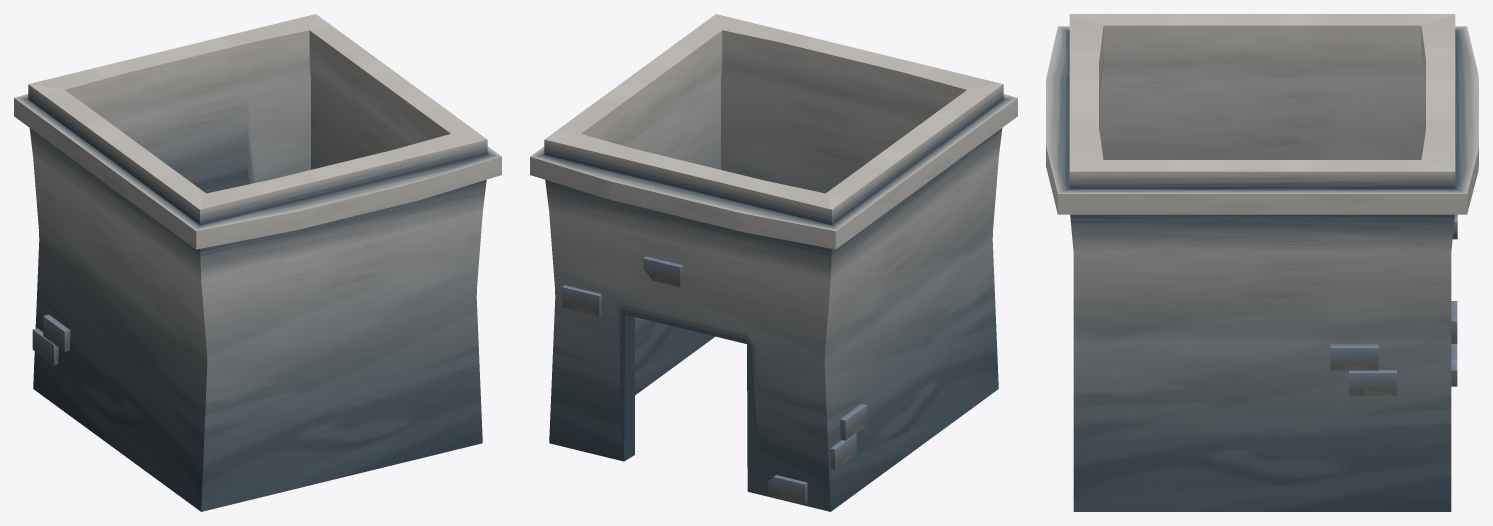
Rendered from Building_Bottom_1.fbx.
3 renders of one model, left to right at view 1: azimuth 30°, elevation 25°; view 2: azimuth 150°, elevation 25°; view 3: azimuth 270°, elevation 25°, orthographic. The views are drawn at different scales.
Parts seen in each view (by area): view 1: Building_Bottom_1; view 2: Building_Bottom_1; view 3: Building_Bottom_1.
Part boxes in pixels (left/top/right/bottom): Building_Bottom_1: left=14, top=14, right=501, bottom=511; Building_Bottom_1: left=530, top=14, right=1017, bottom=511; Building_Bottom_1: left=1046, top=14, right=1478, bottom=511.
Size of the model in its own units: 345 by 328 by 376.
